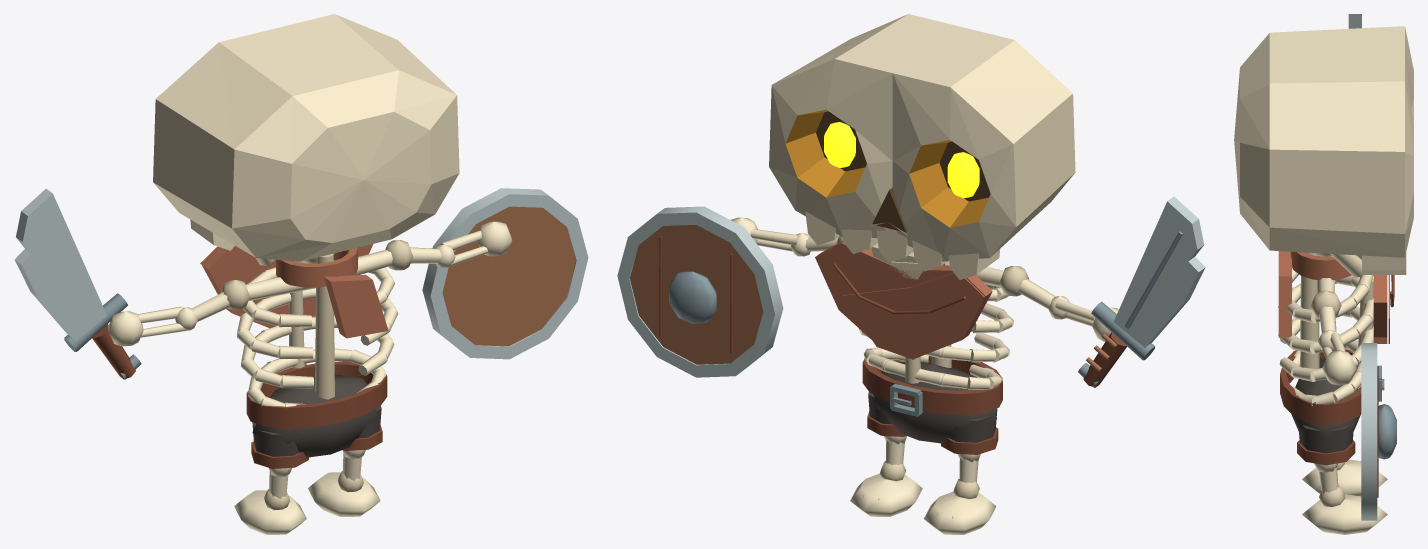
The model's file is Skeleton.glb.
The picture shows the model from 3 angles, left to right: view 1: azimuth 30°, elevation 25°; view 2: azimuth 150°, elevation 25°; view 3: azimuth 270°, elevation 25°; orthographic projection. The views are drawn at different scales.
Visible parts, largest first — view 1: Faceted cranium shell, Wood shield face, Notched blade, Steel shield rim, Leather belt, Chunky foot (×2), Dark shorts, Back scarf tail, Scarf bib, Spine, Hand (×2), Scarf collar (+6 smaller); view 2: Faceted cranium shell, Left orbital ivory rim, Right orbital ivory rim, Wood shield face, Steel shield rim, Notched blade, Scarf left folded facet, Scarf bib, Chunky foot (×2), Leather belt, Right recessed socket walls, Left recessed socket walls (+13 smaller); view 3: Faceted cranium shell, Chunky foot (×2), Steel shield rim, Leather belt, Right orbital ivory rim, Spine, Scarf collar, Back scarf tail, Dark shorts, Shorts leg, Scarf bib, Hand (+20 smaller).
Part boxes in pixels (x1,y1,x2,y2): Faceted cranium shell: [153, 14, 459, 261]; Wood shield face: [442, 206, 575, 346]; Notched blade: [14, 188, 107, 341]; Steel shield rim: [422, 188, 588, 359]; Leather belt: [246, 361, 387, 428]; Chunky foot (×2): [234, 472, 380, 534]; Dark shorts: [252, 374, 377, 457]; Back scarf tail: [324, 274, 388, 338]; Scarf bib: [201, 244, 373, 328]; Spine: [315, 254, 334, 399]; Hand (×2): [108, 221, 512, 346]; Scarf collar: [276, 247, 357, 287]; Faceted cranium shell: [773, 14, 1075, 257]; Left orbital ivory rim: [892, 73, 1016, 261]; Right orbital ivory rim: [769, 59, 892, 237]; Wood shield face: [630, 225, 763, 364]; Steel shield rim: [617, 206, 783, 377]; Notched blade: [1113, 196, 1205, 347]; Scarf left folded facet: [842, 273, 984, 359]; Scarf bib: [815, 241, 992, 358]; Chunky foot (×2): [850, 473, 996, 534]; Leather belt: [862, 356, 1002, 414]; Right recessed socket walls: [785, 109, 865, 197]; Left recessed socket walls: [909, 140, 988, 227]; Faceted cranium shell: [1234, 26, 1404, 257]; Chunky foot (×2): [1302, 459, 1387, 534]; Steel shield rim: [1361, 343, 1377, 520]; Leather belt: [1280, 349, 1361, 425]; Right orbital ivory rim: [1405, 55, 1413, 256]; Spine: [1300, 252, 1319, 380]; Scarf collar: [1290, 251, 1351, 280]; Back scarf tail: [1278, 251, 1291, 337]; Dark shorts: [1291, 357, 1360, 438]; Shorts leg: [1298, 425, 1353, 453]; Scarf bib: [1373, 275, 1387, 343]; Hand: [1322, 350, 1356, 385].
Size of the model in its own units: 2.18 by 1.7 by 0.605.
